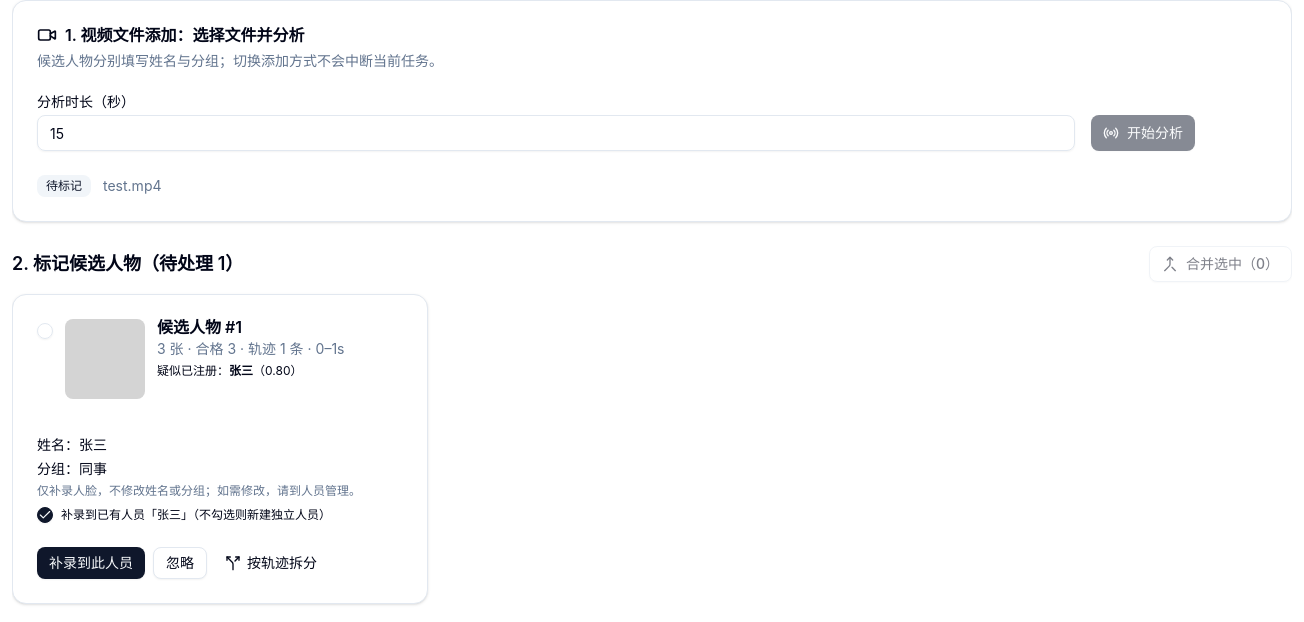
采集人员的姓名与分组 › 已有人员补录只发送 person_id，展示其当前姓名与分组，不意外改成老板
Expected: the text "姓名：张三" is shown, [37, 436, 107, 453]
Expected: the text "分组：同事" is shown, [37, 460, 107, 477]
Click the button "补录到此人员".
click(91, 563)  # box [37, 547, 145, 579]
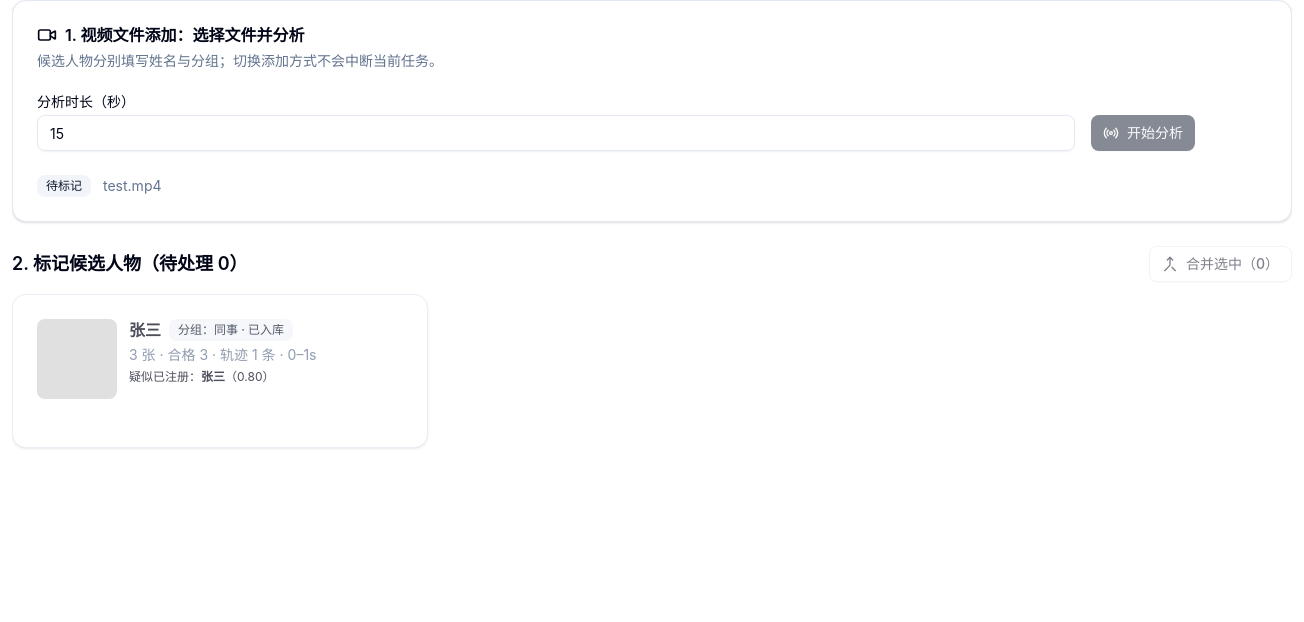
Result: the text "分组：同事 · 已入库" is shown at [169, 319, 293, 341]
